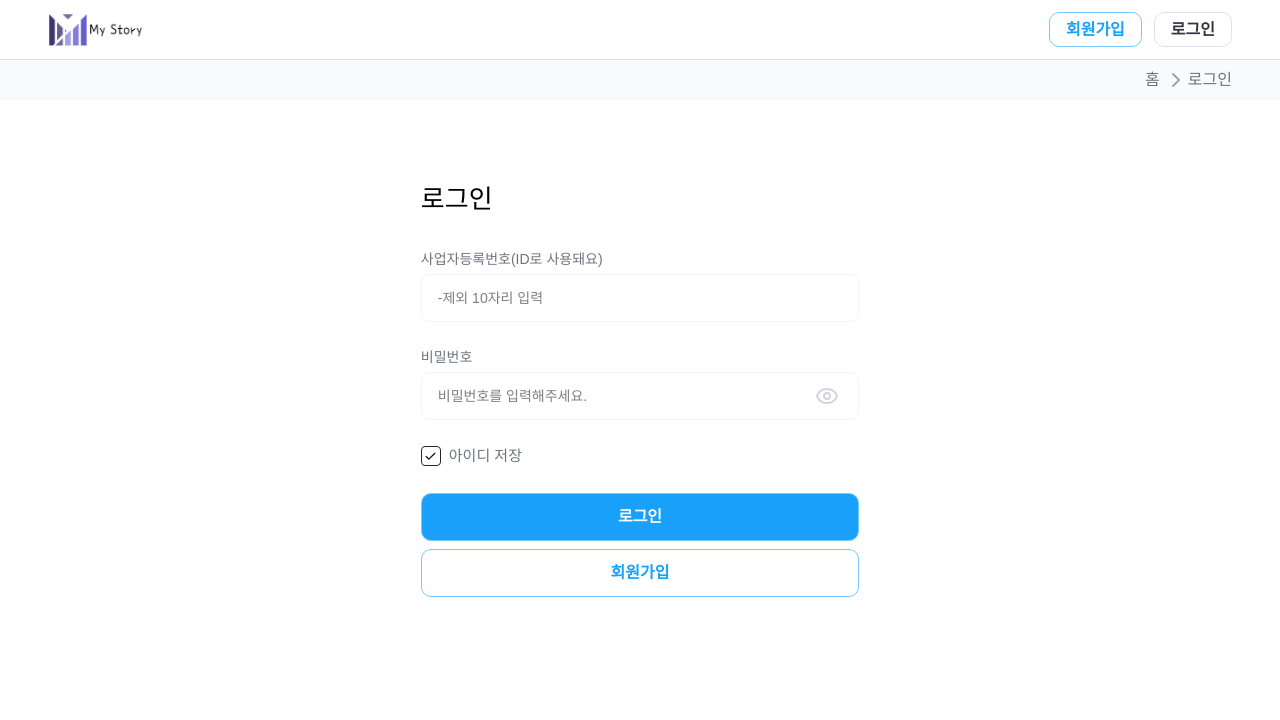
로그인 화면 › 사용자는 계정 정보가 없는 아이디로 로그인 시도시 토스트 바에 뜬다.
Step 1. Type "1234567890" into the field with placeholder "-제외 10자리 입력" → point(640, 298), box top-left (421, 274), bottom-right (859, 322)
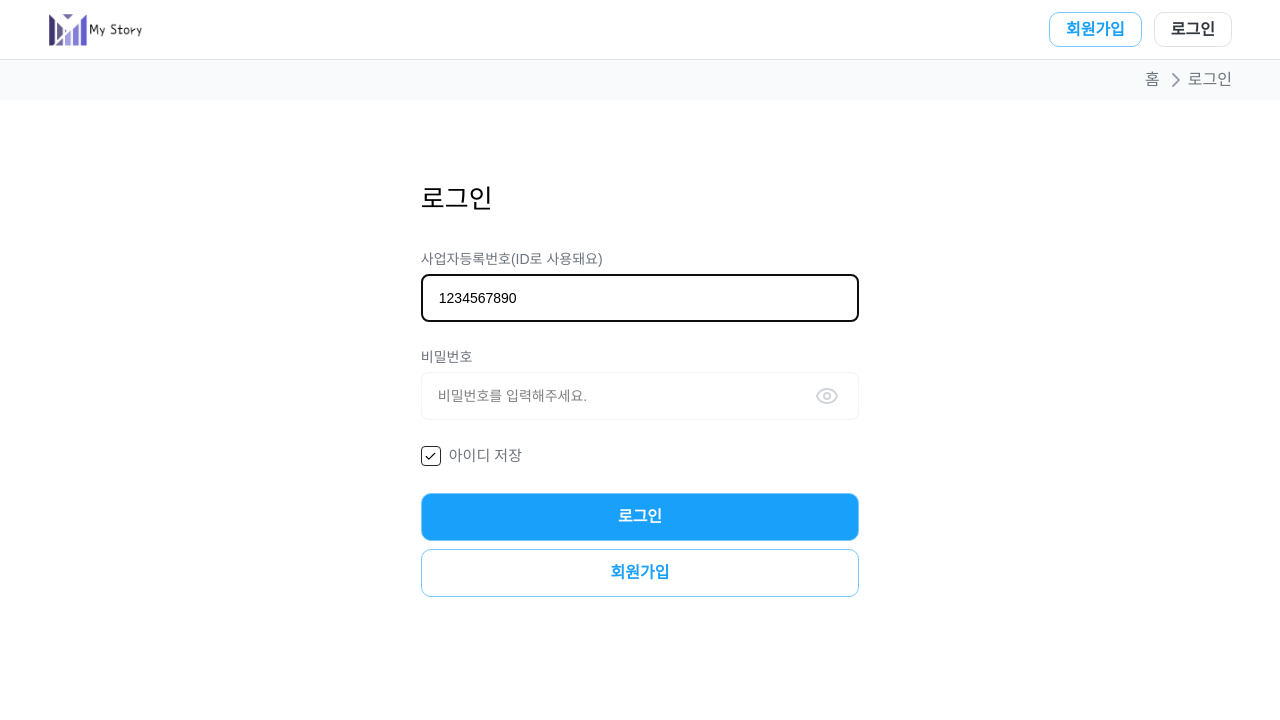
Step 2. Type "wrongPassword" into the password field with placeholder "비밀번호를 입력해주세요." → point(640, 396), box top-left (421, 372), bottom-right (859, 420)
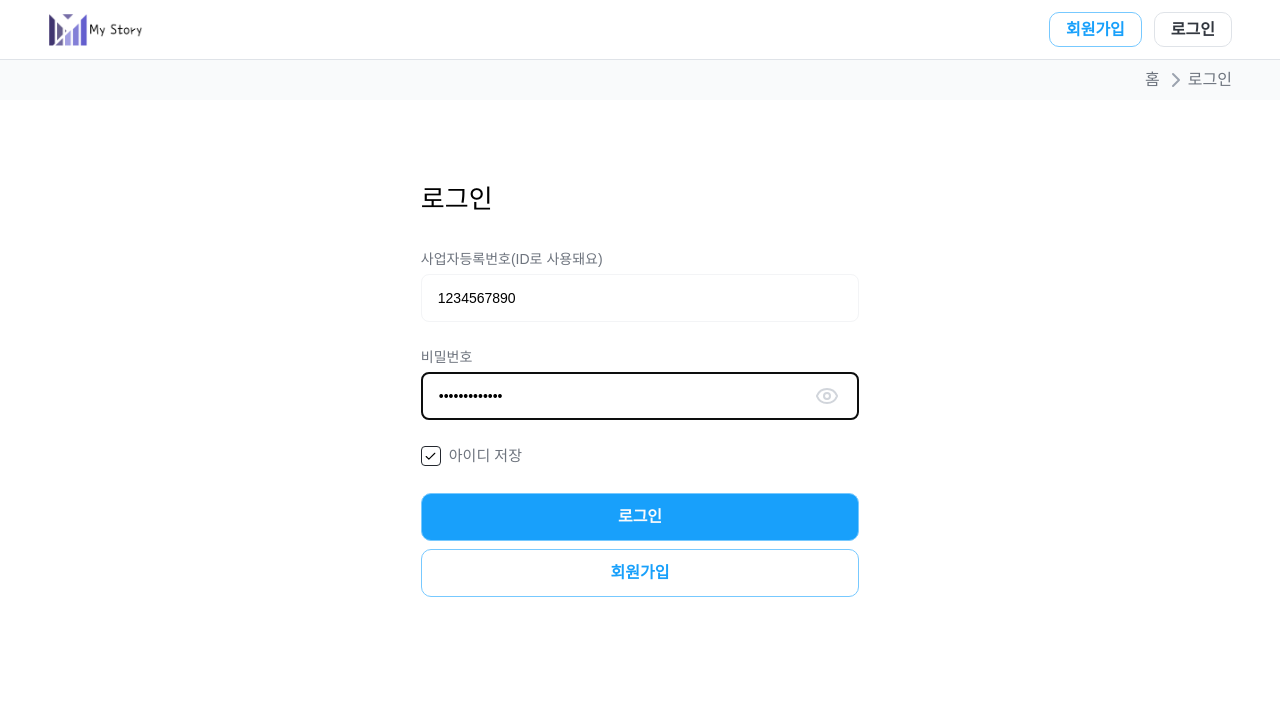
Step 3. Click the button with test id "login-button" → point(640, 517), box top-left (421, 493), bottom-right (859, 541)
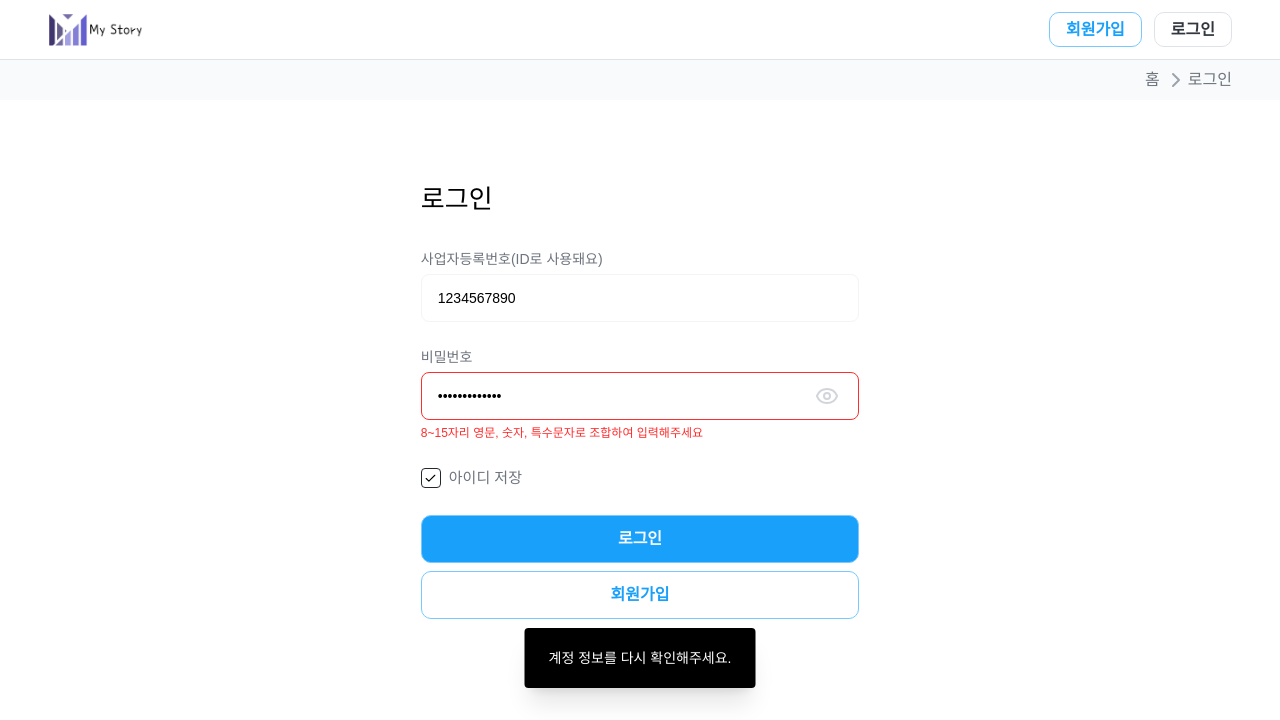
Expected: the text "계정 정보를 다시 확인해주세요." is shown, top-left (524, 628), bottom-right (756, 688)
Expected: the text with test id "toast" reads "계정 정보를 다시 확인해주세요.", top-left (525, 628), bottom-right (756, 688)
